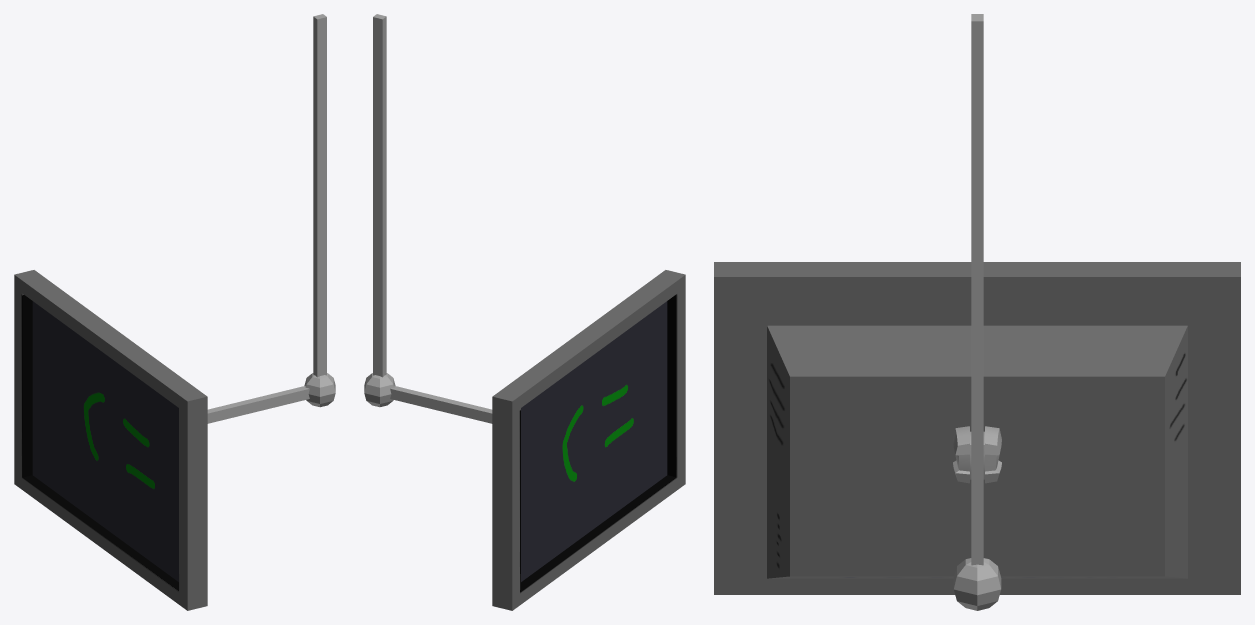
The model's file is ComputerBoneless.fbx.
3 renders of one model, left to right at view 1: azimuth 30°, elevation 25°; view 2: azimuth 150°, elevation 25°; view 3: azimuth 270°, elevation 25°, orthographic. The views are drawn at different scales.
Visible parts, largest first — view 1: pCube1, pCube4, pCube3, pSphere1; view 2: pCube1, pCube4, pCube3, pSphere1; view 3: pCube1, pCube4, pSphere1, pCube5.
Part boxes in pixels (box(x1,y1,x2,y2)): pCube1: box(14, 270, 207, 610); pCube4: box(313, 14, 326, 377); pCube3: box(207, 386, 309, 423); pSphere1: box(304, 373, 335, 407); pCube1: box(492, 270, 685, 610); pCube4: box(373, 14, 386, 377); pCube3: box(390, 386, 492, 423); pSphere1: box(364, 373, 395, 407); pCube1: box(714, 262, 1240, 594); pCube4: box(971, 14, 983, 565); pSphere1: box(953, 558, 1001, 610); pCube5: box(953, 426, 1001, 483).
Bounding box in the file's own units: 4.82 × 9.36 × 6.16.
